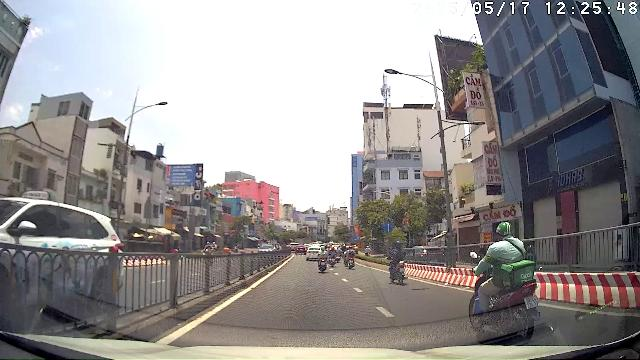301a-cac-xe-chi-duoc-di-thang: (383, 221, 393, 233)
